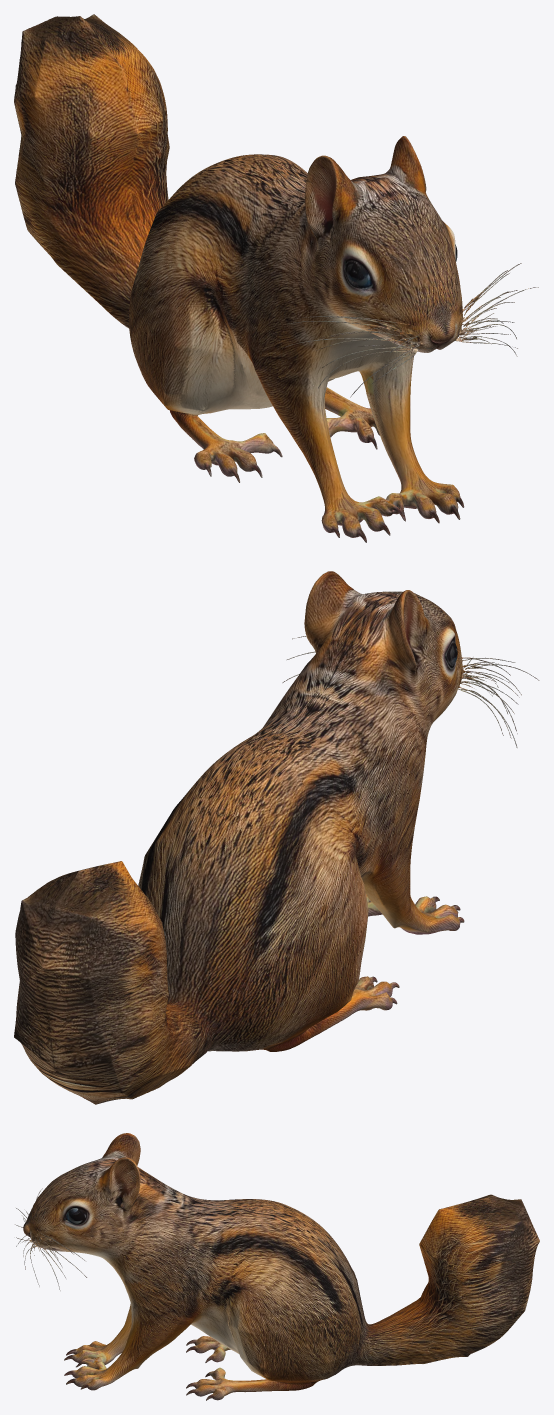
Rendered from squirrel.glb.
3 renders of one model, top to bottom at view 1: azimuth 30°, elevation 25°; view 2: azimuth 150°, elevation 25°; view 3: azimuth 270°, elevation 25°, orthographic. The views are drawn at different scales.
Visible parts, largest first — view 1: Object_6, Object_5; view 2: Object_6, Object_5; view 3: Object_6, Object_5.
Boxes of the visible parts, box(x1,y1,x2,y2) form: Object_6: box(14, 14, 421, 503); Object_5: box(129, 154, 538, 542); Object_6: box(14, 571, 451, 1104); Object_5: box(138, 588, 539, 1051); Object_6: box(81, 1133, 539, 1400); Object_5: box(15, 1142, 336, 1391).
Bounding box in the file's own units: 0.6142 × 0.905 × 1.9.
Materials: 1 (1 with a texture image).
